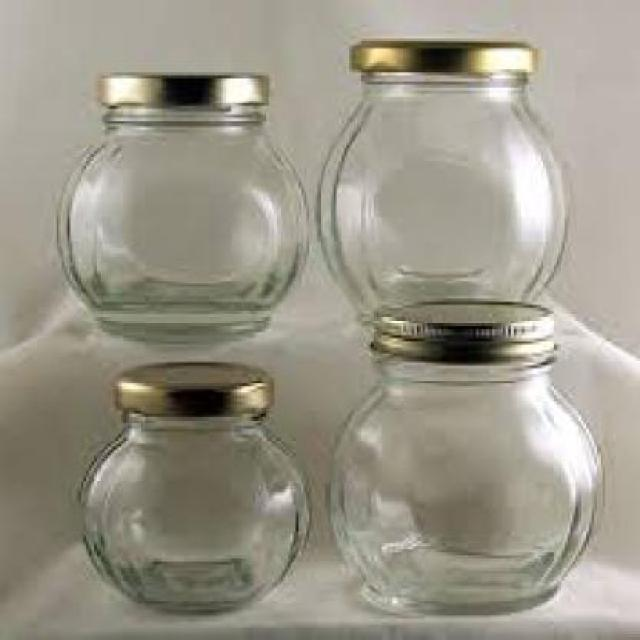GLASS: (330, 348, 608, 615), (320, 69, 575, 323), (59, 102, 312, 338), (80, 410, 312, 616)
METAL: (376, 293, 559, 356), (118, 358, 280, 411), (102, 66, 272, 106), (355, 39, 543, 73)
